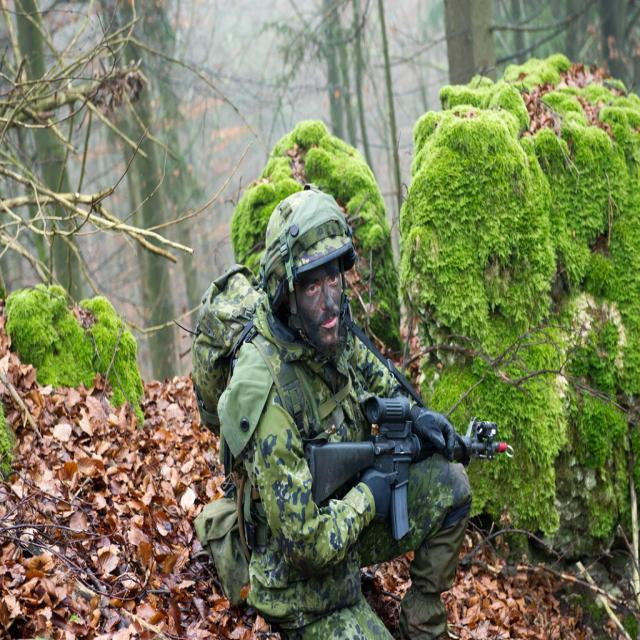weapon: (307, 394, 512, 538)
